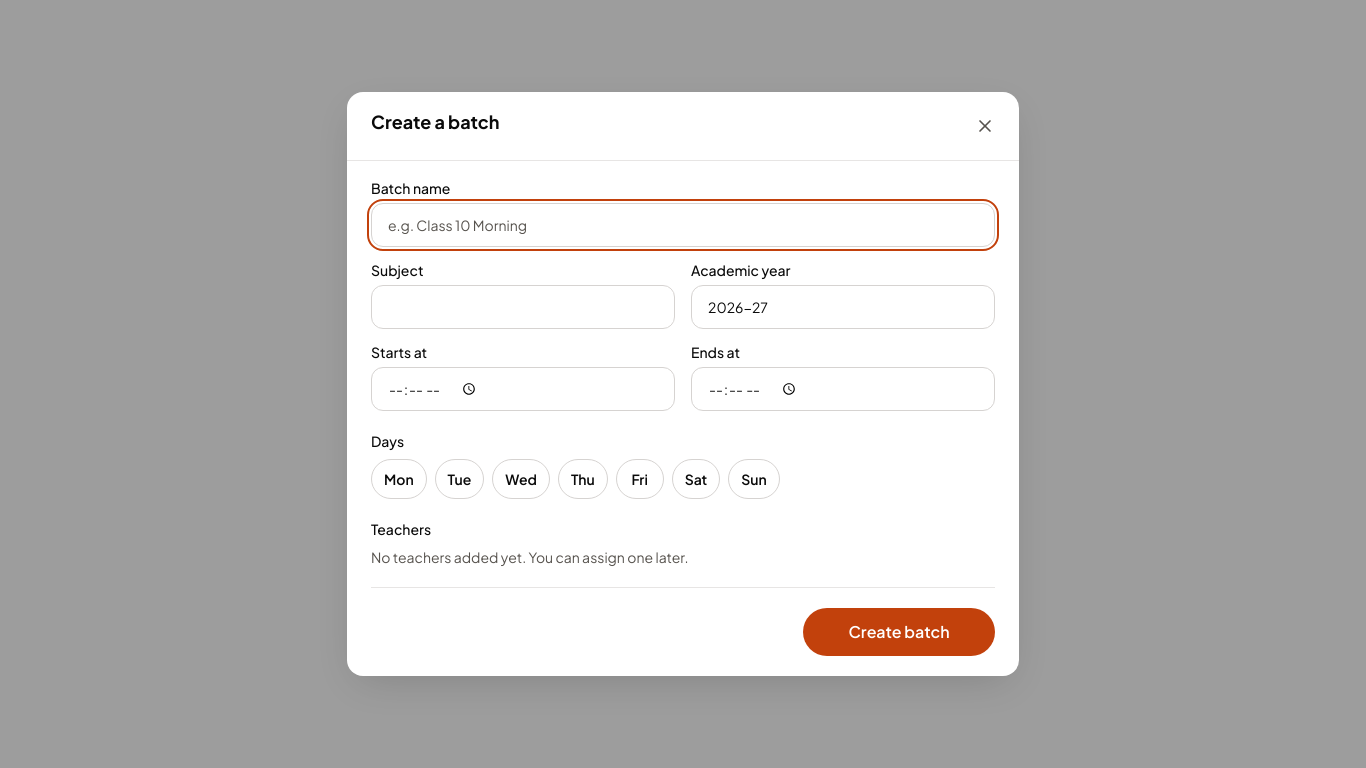
it: BatchFormDialog › rejects a class that ends before it starts
Type "Evening" into the field labelled "Batch name" at (683, 225), box [371,203,995,247]
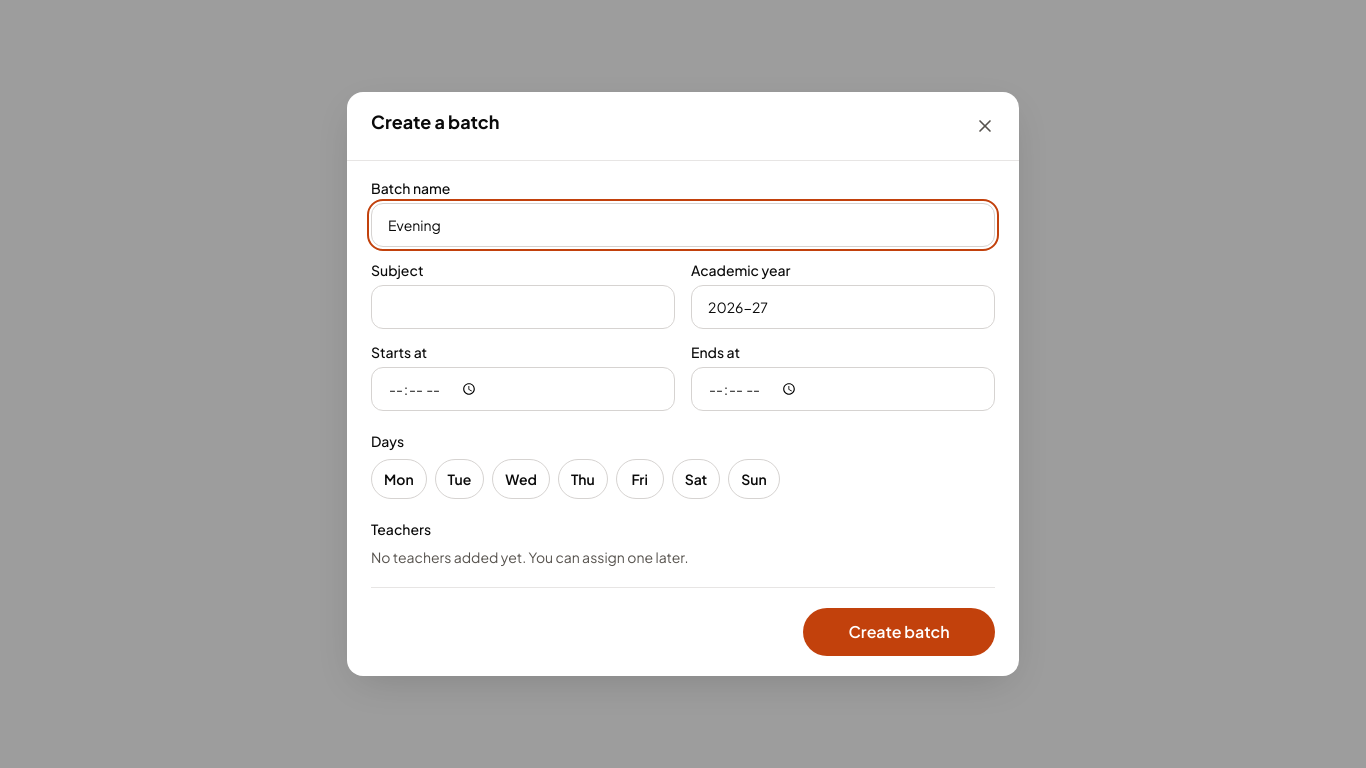
Type "18:00" into the time field labelled "Starts at" at (523, 389), box [371,367,675,411]
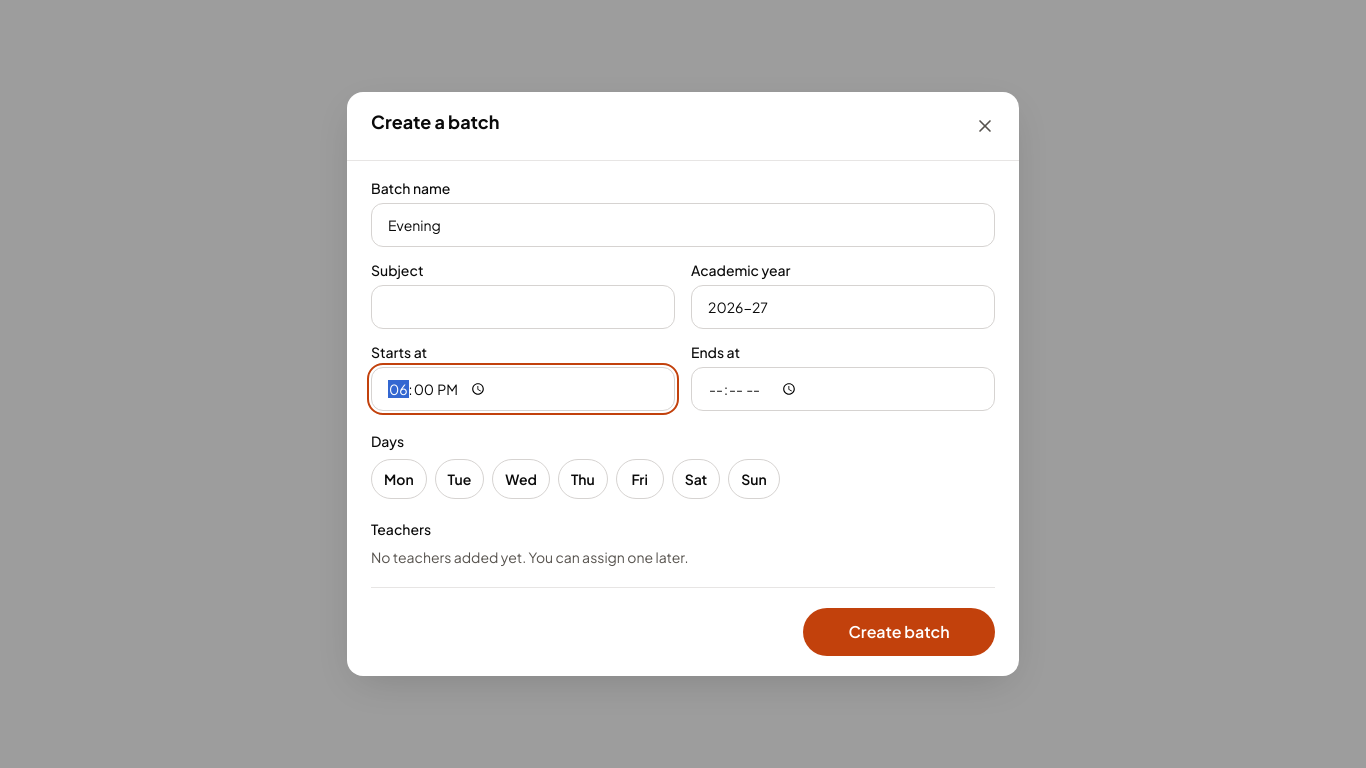
Type "17:00" into the time field labelled "Ends at" at (843, 389), box [691,367,995,411]
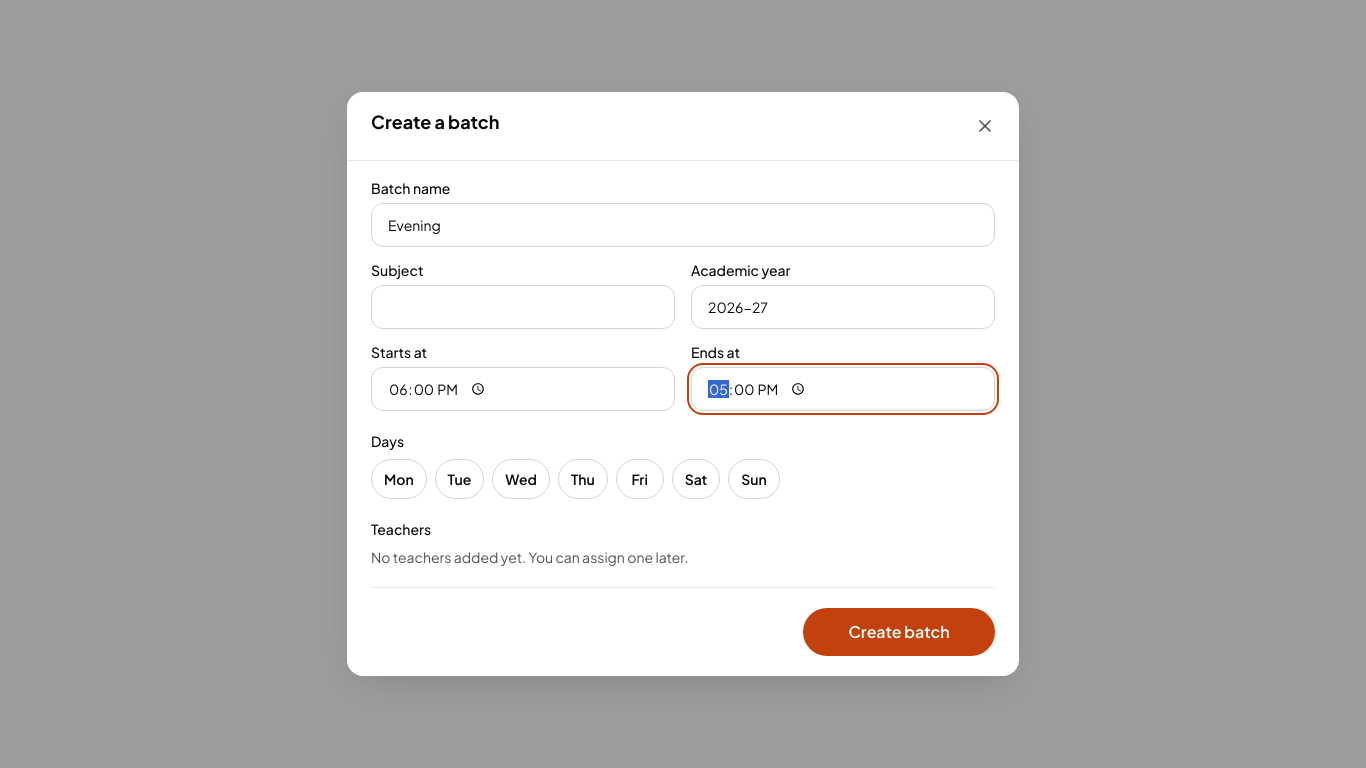
Click the button "Create batch" at (899, 632), box [803,608,995,656]
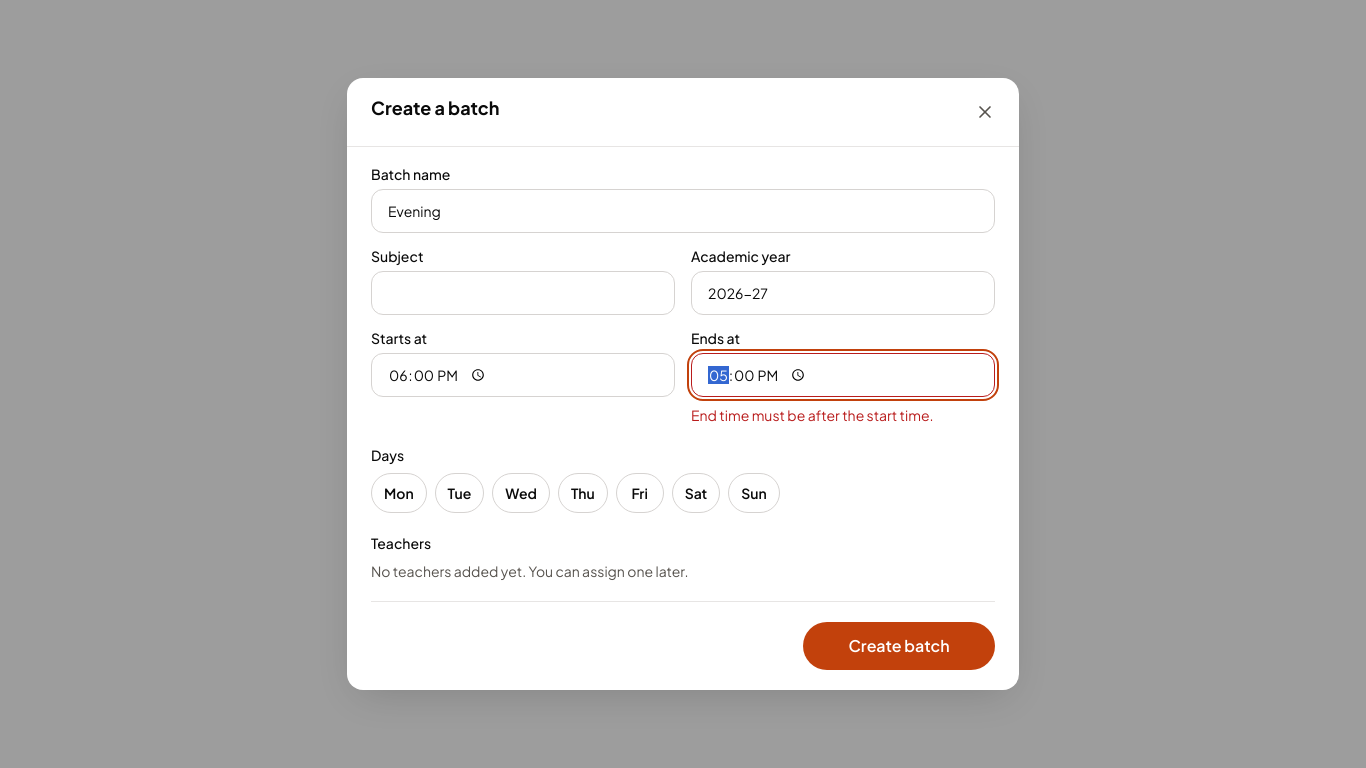
Expected: the text "End time must be after the start time." is shown, [691,406,934,424]
